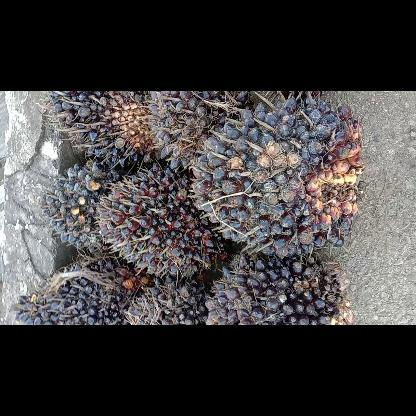TBS mentah: (187, 98, 366, 262), (93, 162, 229, 280), (202, 252, 356, 324), (8, 252, 156, 324), (46, 90, 178, 166), (142, 91, 256, 171), (38, 157, 124, 255), (121, 274, 217, 324)
